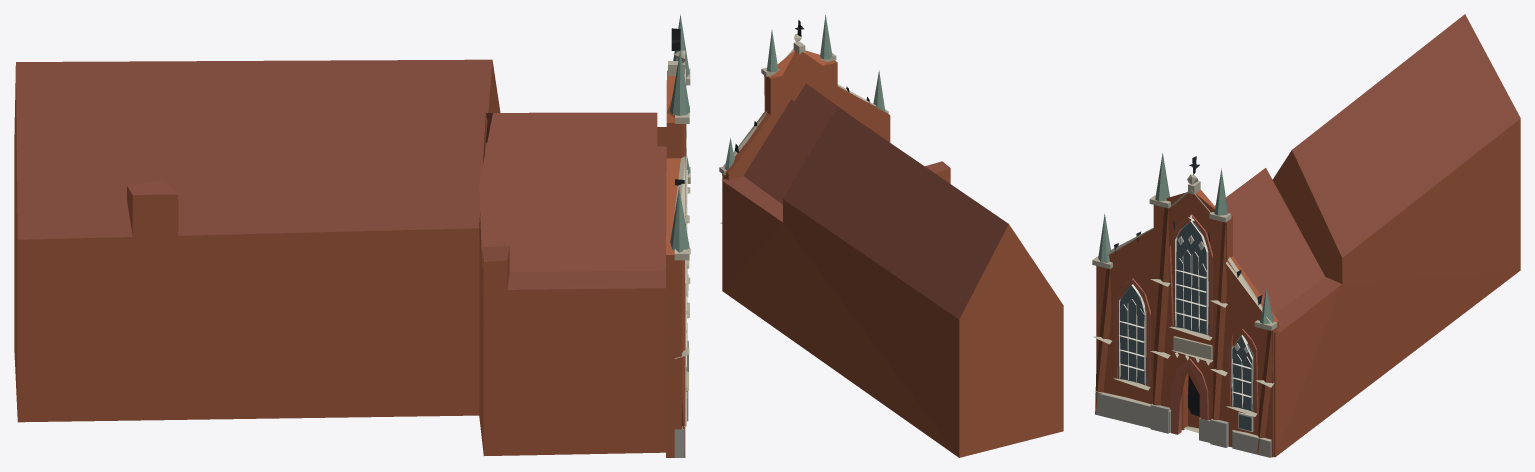
File: christ-church-groenburgwal.lod1.glb
The picture shows the model from 3 angles, left to right: view 1: azimuth 30°, elevation 25°; view 2: azimuth 150°, elevation 25°; view 3: azimuth 270°, elevation 25°; orthographic projection. The views are drawn at different scales.
Visible parts, largest first — view 1: christ-church-groenburgwal; view 2: christ-church-groenburgwal; view 3: christ-church-groenburgwal.
Part boxes in pixels (box(x1,y1,x2,y2)): christ-church-groenburgwal: box(14, 14, 690, 457); christ-church-groenburgwal: box(719, 15, 1063, 457); christ-church-groenburgwal: box(1092, 14, 1520, 457).
Bounding box in the file's own units: 27.78 × 16.65 × 23.22.
